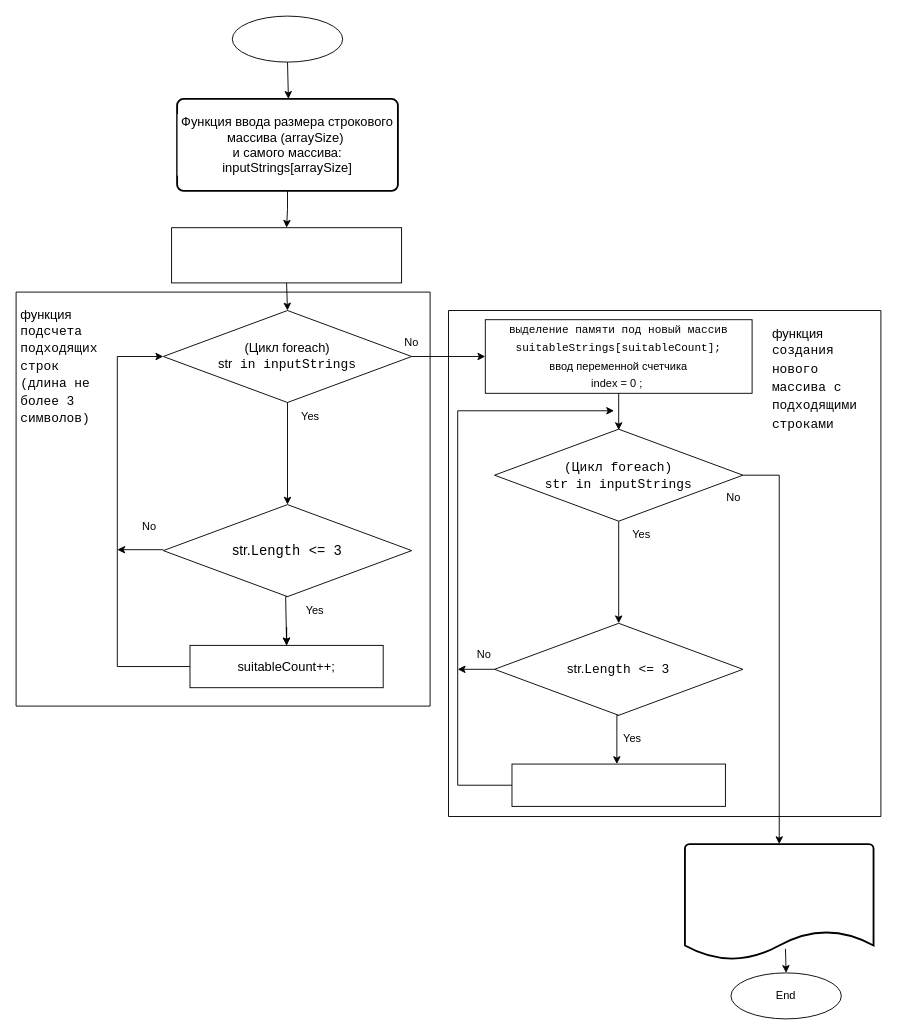
Image size: 897x1035. Some labels were removed from this diagram. Here are the shapes that lost their labels. From the top down, the centre of each, then its label:
the point at 287,38: Start
the point at 286,255: suitableCount = 0;
the point at 618,784: suitableStrings[index] = str; index++;
the point at 779,901: Функцция вывода результатов inputStrings[] suitableStrings[]
